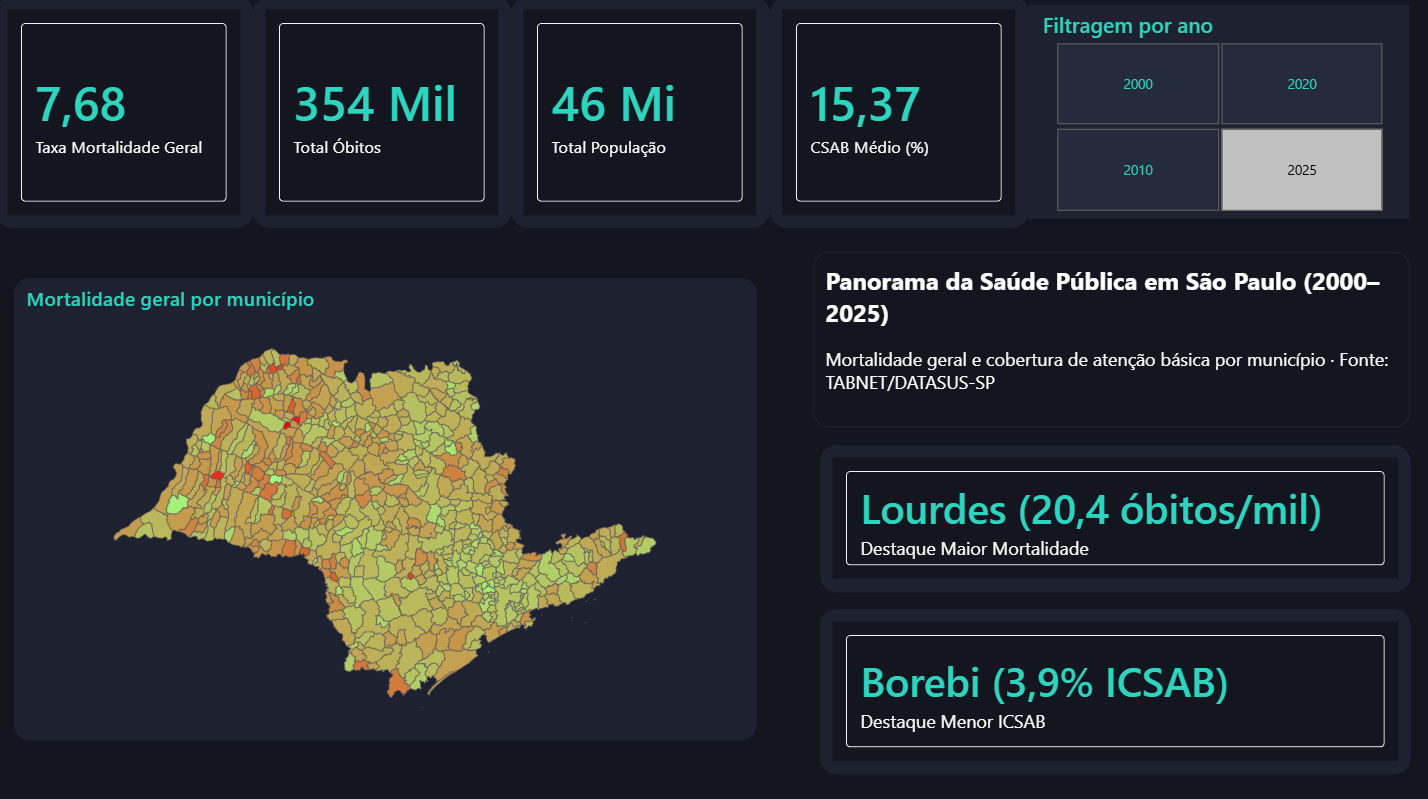

This screenshot's page, from the dashboard's own definition file:
{"tool":"powerbi","page":{"name":"Visão Geral","canvas":[1280,720],"ordinal":0},"visuals":[{"type":"cardVisual","fields":{"Data":["dataset_final_projeto_saude_sp_BR_1.Taxa Mortalidade Geral"]},"box":[0,0,229.5,205.2],"z":0},{"type":"cardVisual","fields":{"Data":["dataset_final_projeto_saude_sp_BR_1.Total Óbitos"]},"box":[229.5,0,229.5,205.2],"z":1000},{"type":"cardVisual","fields":{"Data":["dataset_final_projeto_saude_sp_BR_1.Total População"]},"box":[459.1,0,229.5,205.2],"z":2000},{"type":"cardVisual","fields":{"Data":["dataset_final_projeto_saude_sp_BR_1.CSAB Médio (%)"]},"box":[688.6,0,229.5,205.2],"z":3000},{"type":"slicer","title":"Filtragem por ano","fields":{"Values":["dataset_final_projeto_saude_sp_BR_1.ano"]},"box":[918.2,7.1,339.5,189.7],"z":4000},{"type":"shapeMap","title":"Mortalidade geral por município","fields":{"Category":["dataset_final_projeto_saude_sp_BR_1.municipio_mapa"],"Value":["Sum(dataset_final_projeto_saude_sp_BR_1.taxa_mortalidade_por_mil)"]},"box":[16.9,249.8,659.6,410.7],"z":5000},{"type":"textbox","box":[727.1,226.7,530.7,156.4],"z":6000},{"type":"cardVisual","fields":{"Data":["dataset_final_projeto_saude_sp_BR_1.Destaque Maior Mortalidade"]},"box":[733.3,398.2,525,130.7],"z":7000},{"type":"cardVisual","fields":{"Data":["dataset_final_projeto_saude_sp_BR_1.Destaque Menor ICSAB"]},"box":[733.3,544,525,146.7],"z":8000}]}

Visuals, with their boxes in screenshot pixels (x1, y1, x2, y2), scaled from the page's 1280x720 canvas onto the 1428x799 screenshot:
cardVisual - dataset_final_projeto_saude_sp_BR_1.Taxa Mortalidade Geral: rect(0, 0, 256, 228)
cardVisual - dataset_final_projeto_saude_sp_BR_1.Total Óbitos: rect(256, 0, 512, 228)
cardVisual - dataset_final_projeto_saude_sp_BR_1.Total População: rect(512, 0, 768, 228)
cardVisual - dataset_final_projeto_saude_sp_BR_1.CSAB Médio (%): rect(768, 0, 1024, 228)
"Filtragem por ano" slicer: rect(1024, 8, 1403, 218)
"Mortalidade geral por município" shapeMap: rect(19, 277, 755, 733)
textbox: rect(811, 252, 1403, 425)
cardVisual - dataset_final_projeto_saude_sp_BR_1.Destaque Maior Mortalidade: rect(818, 442, 1404, 587)
cardVisual - dataset_final_projeto_saude_sp_BR_1.Destaque Menor ICSAB: rect(818, 604, 1404, 766)
